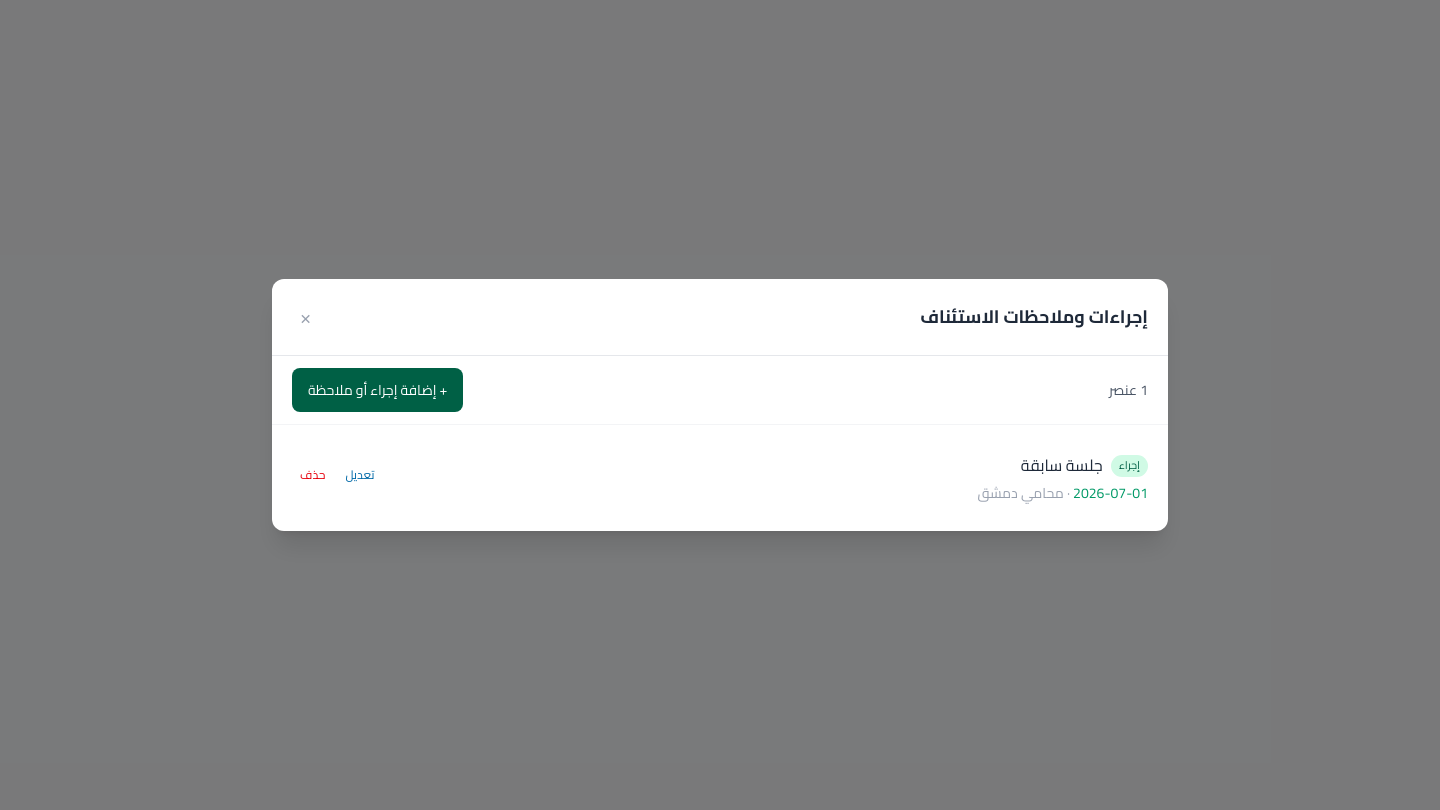
Test: AppealActionsModal › الإجراء بلا تاريخ مرفوض مع تركيز الحقل وبلا إرسال
The image size is (1440, 810).
Step 1. Click the button "+ إضافة إجراء أو ملاحظة" → (378,390), box top-left (292, 368), bottom-right (463, 412)
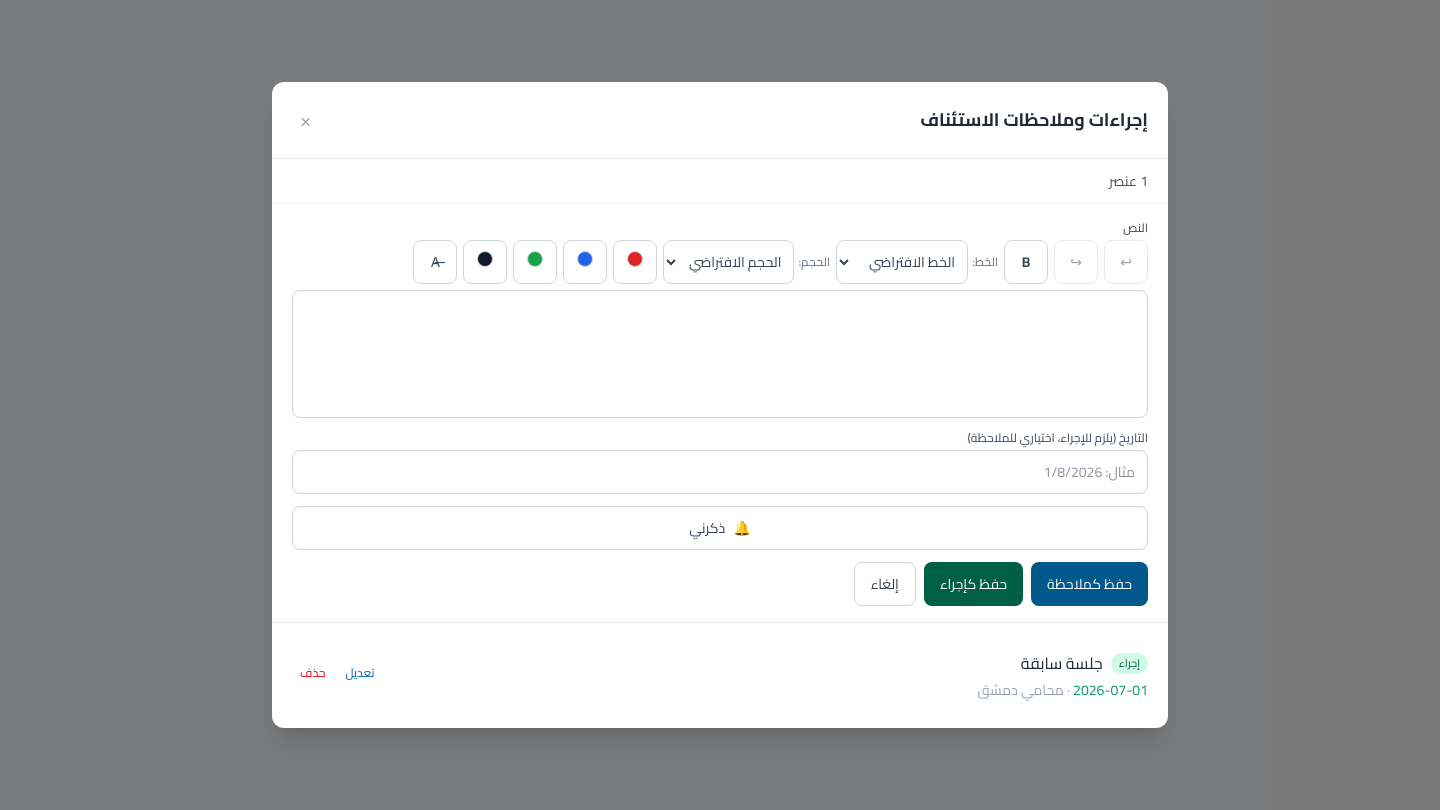
Step 2. Click the field named "أدخل نص الإجراء أو الملاحظة..." → (720,354), box top-left (292, 290), bottom-right (1148, 418)
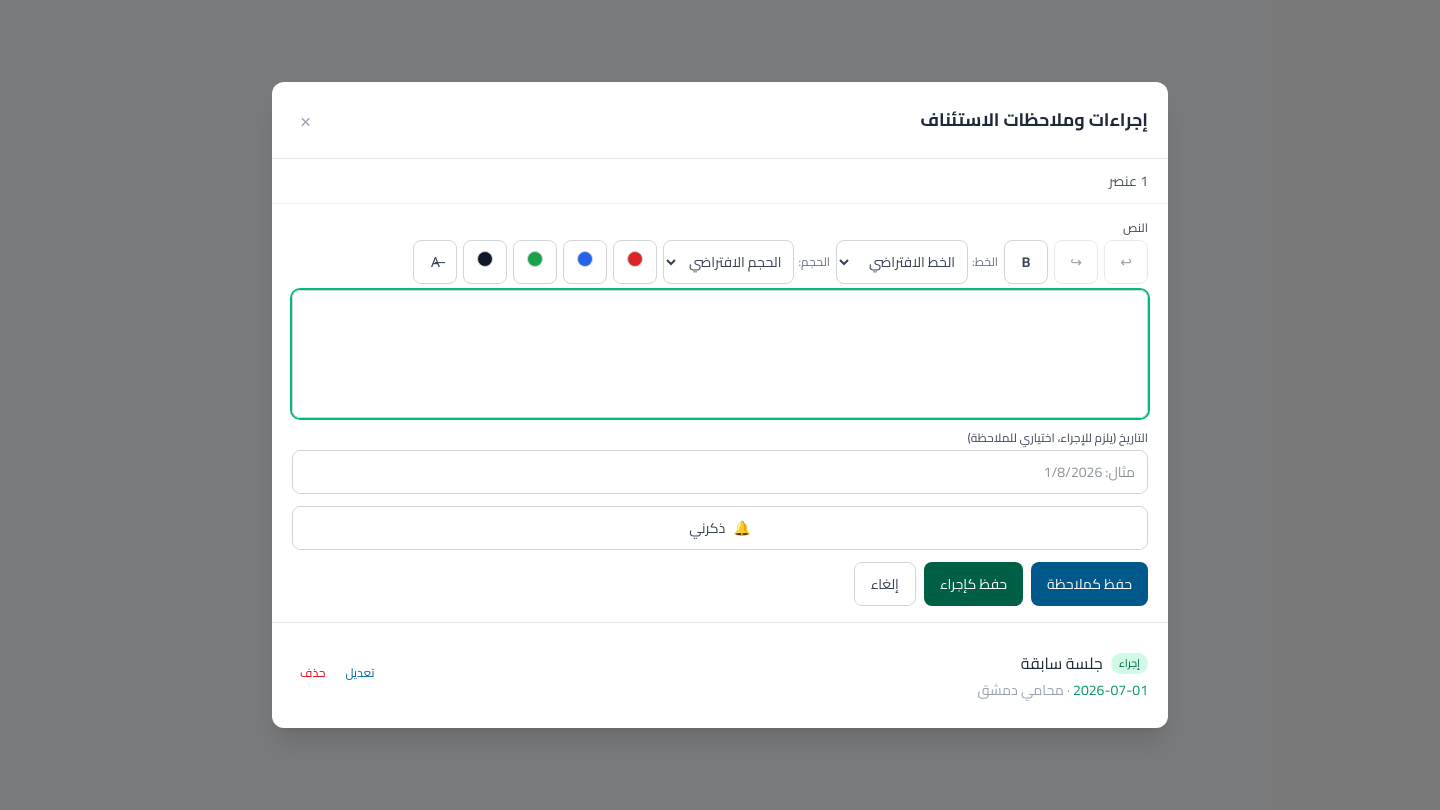
Step 3. Type keys "إجراء بلا تاريخ"
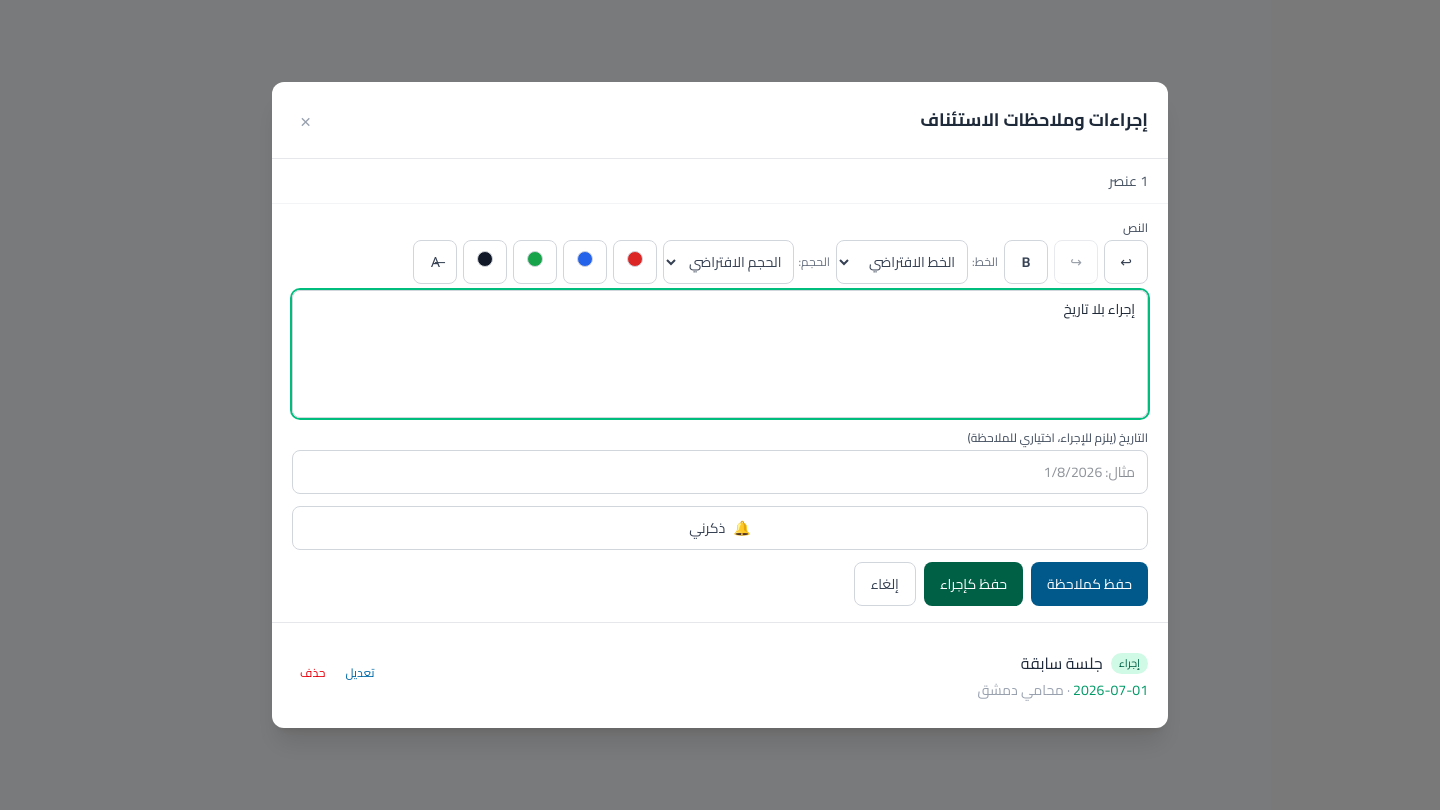
Step 4. Click the button "حفظ كإجراء" → (974,584), box top-left (924, 562), bottom-right (1023, 606)
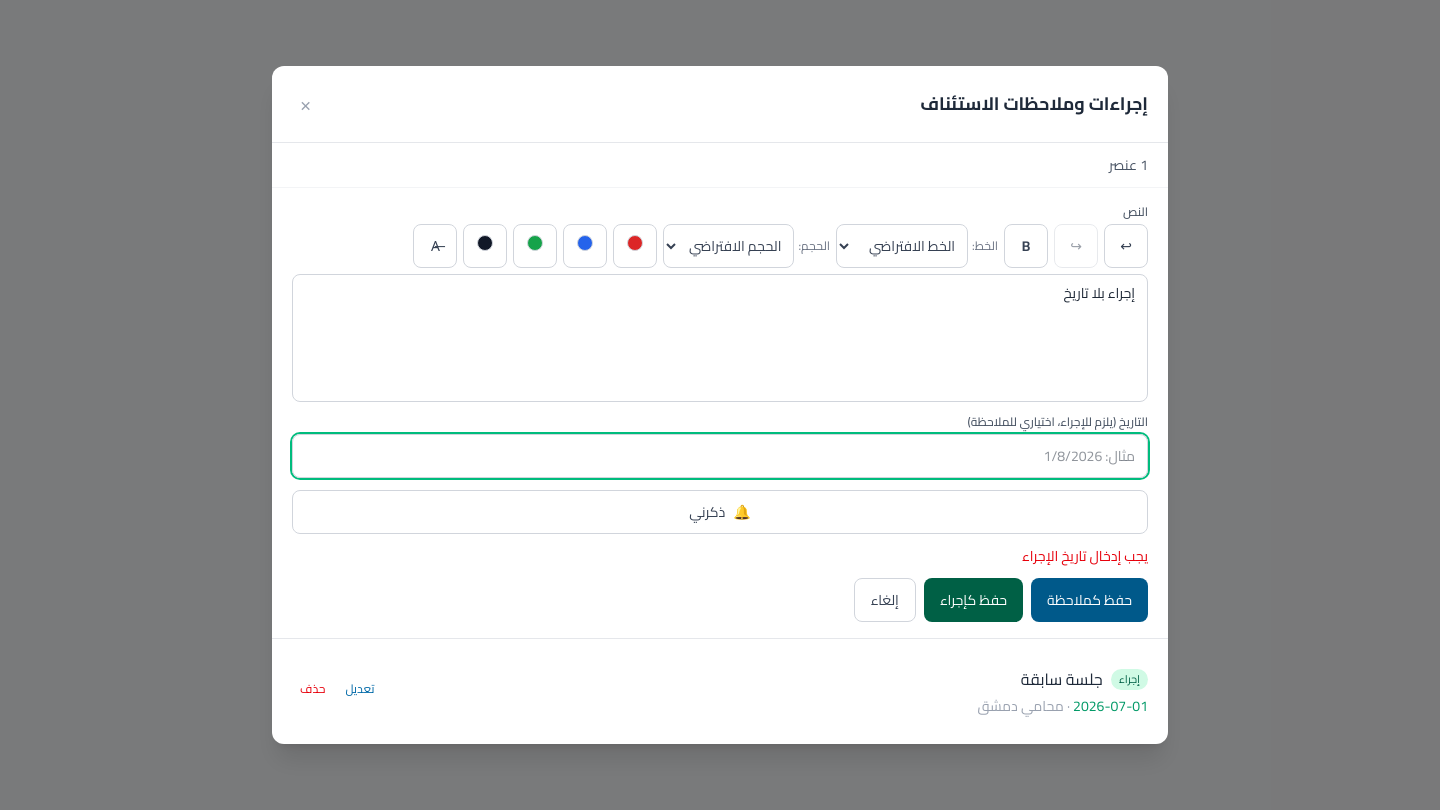
Expected: the text "يجب إدخال تاريخ الإجراء" is shown, top-left (1022, 543), bottom-right (1148, 569)
